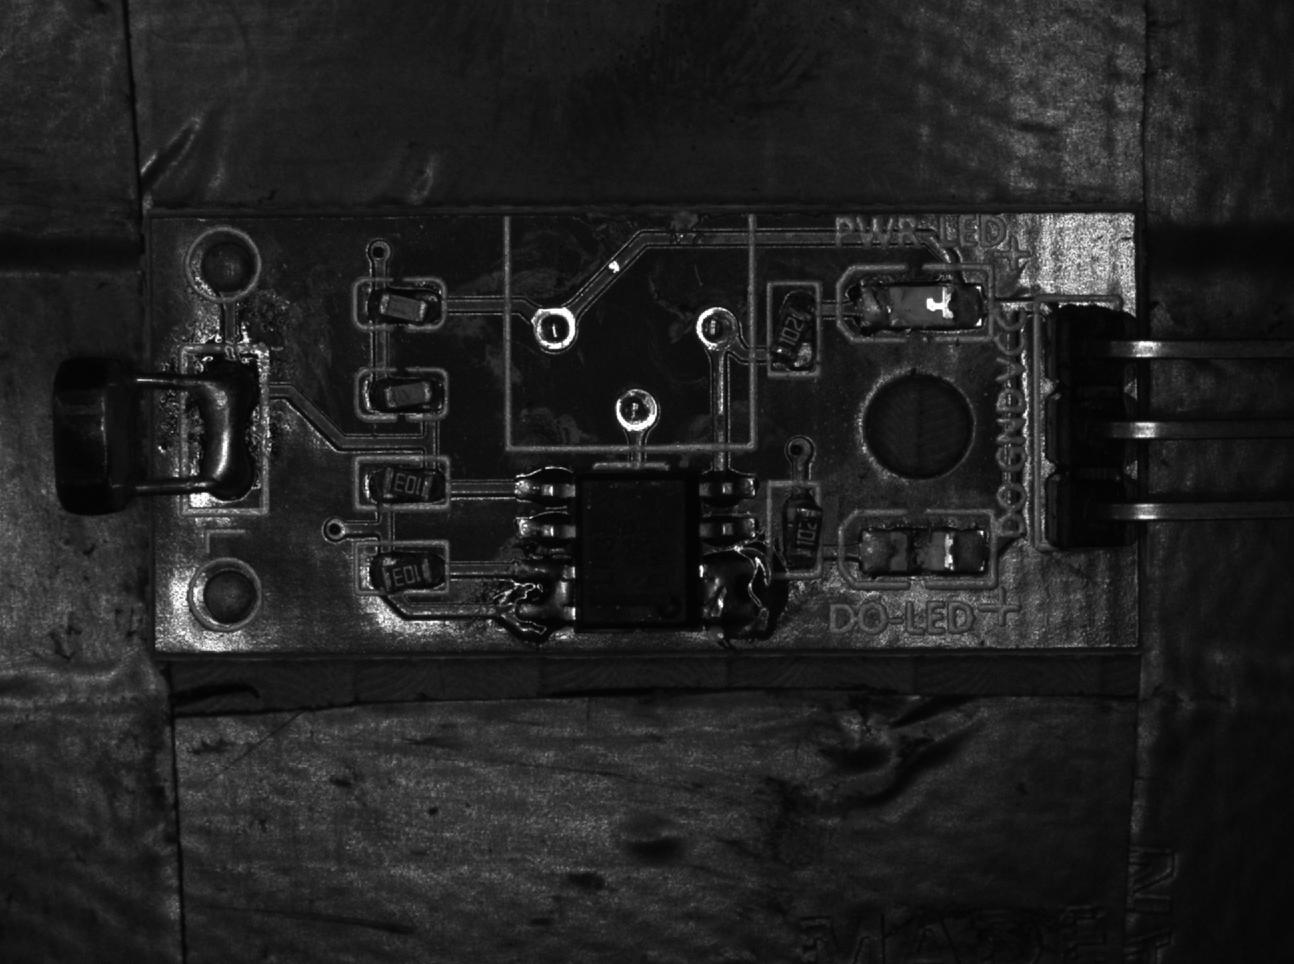bridge: (179, 348, 267, 517), (701, 542, 769, 633), (506, 559, 580, 633)
lifted: (353, 539, 451, 600), (769, 484, 822, 579), (356, 457, 448, 512), (769, 279, 820, 375), (353, 279, 447, 332), (360, 365, 444, 415)
